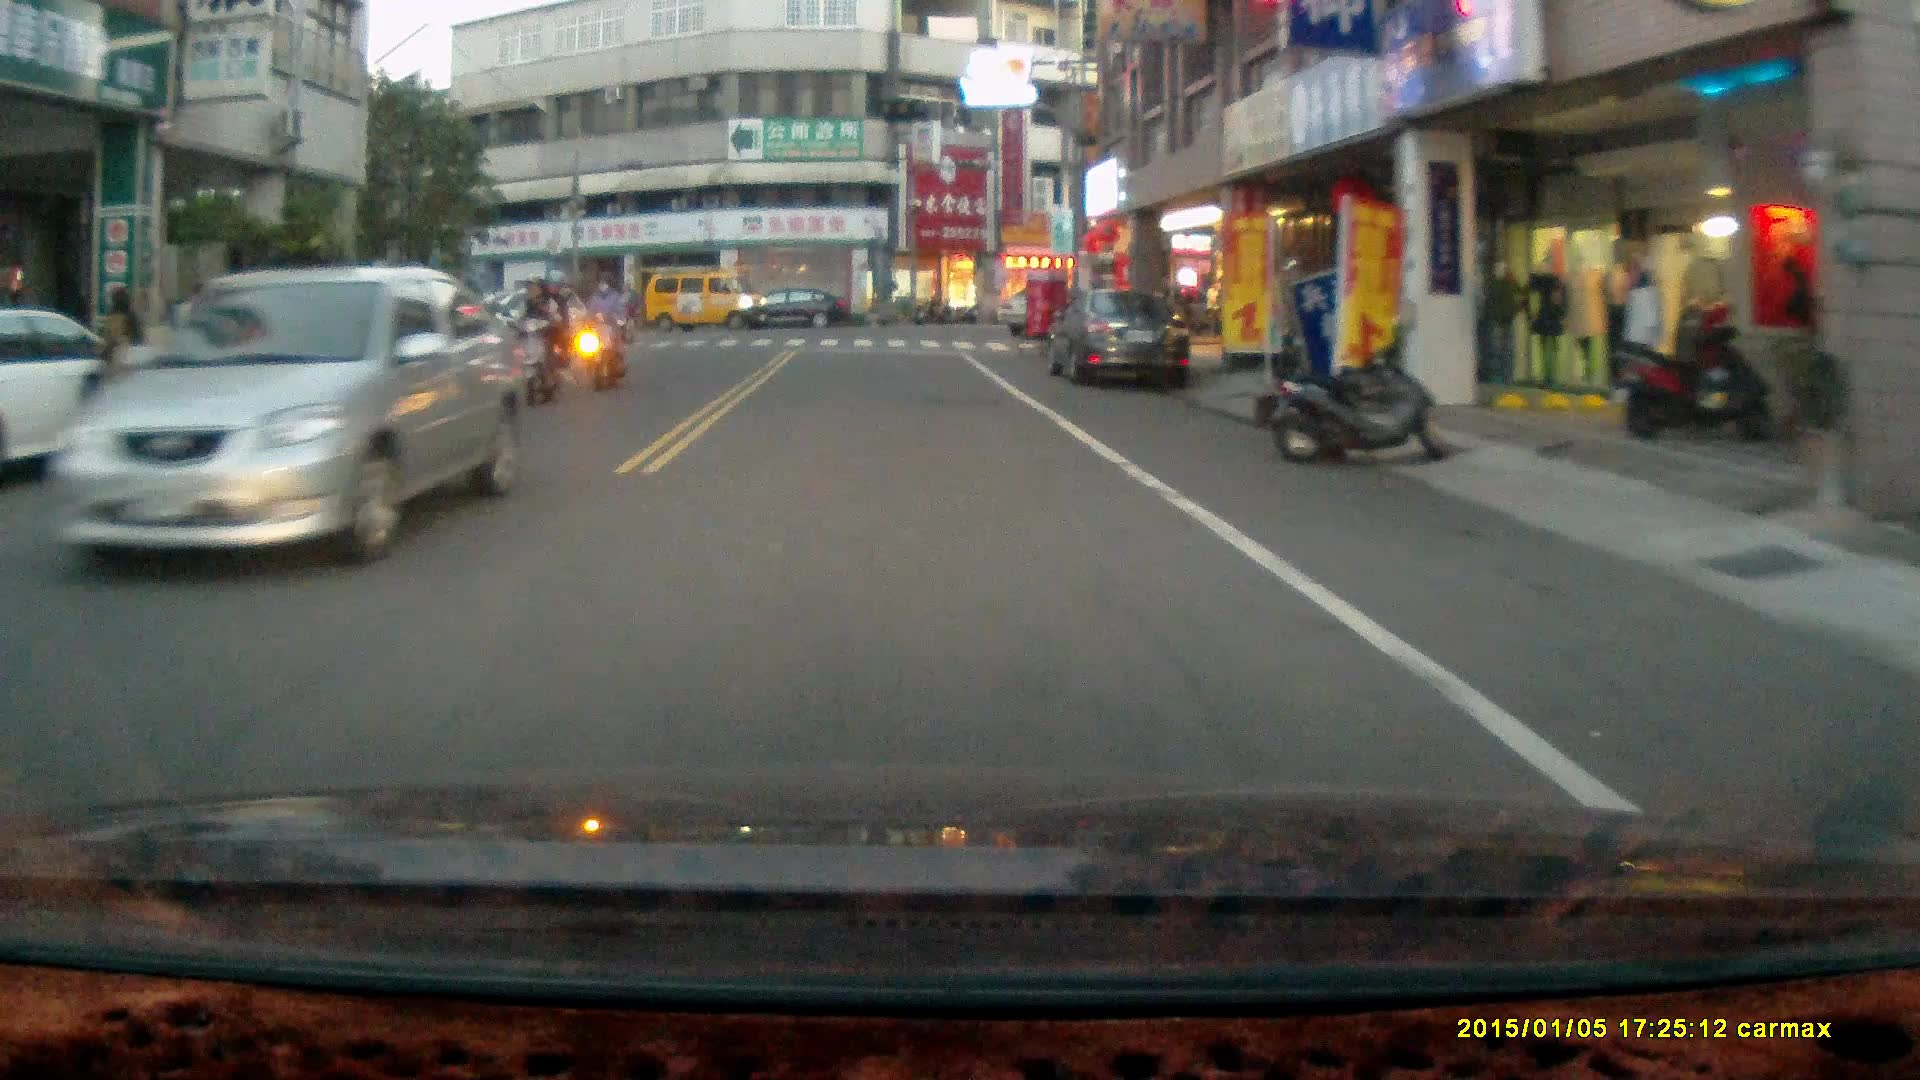pedestrian: (81, 285, 148, 444)
rider: (507, 270, 572, 413), (580, 272, 628, 394)
vehicle: (154, 271, 506, 601), (1039, 284, 1200, 397), (639, 265, 771, 337), (733, 288, 852, 334)
